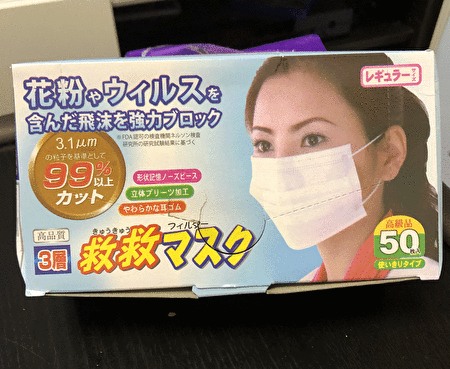Mask: (242, 74, 392, 245)
